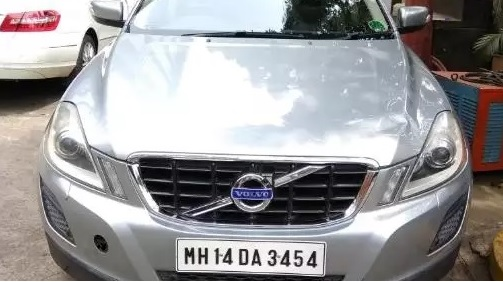licenseplate: (174, 237, 329, 278)
